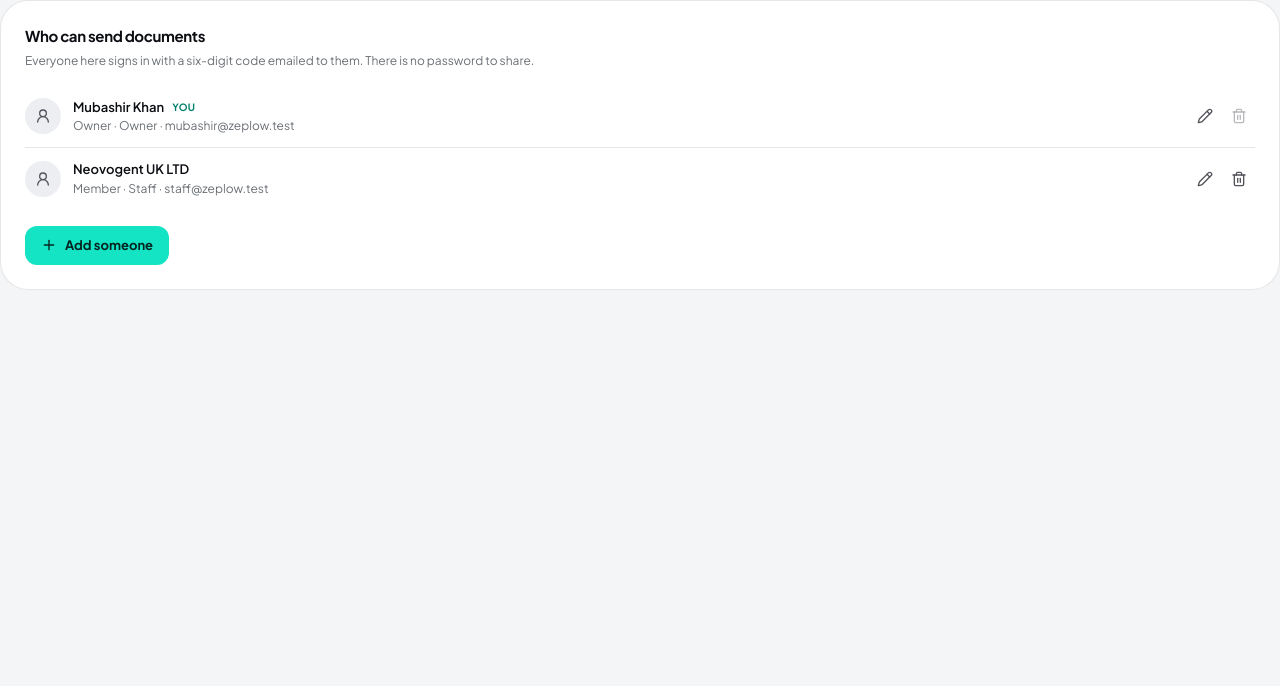
⚠ item 42 — the pencil opens the editor PRE-FILLED with that person
expect the text "Neovogent UK LTD" is shown: met, box [73,160,189,180]
Click the button named "change what they can do" in the row of "Neovogent UK LTD" at (1205, 179), box [1189,163,1221,195]
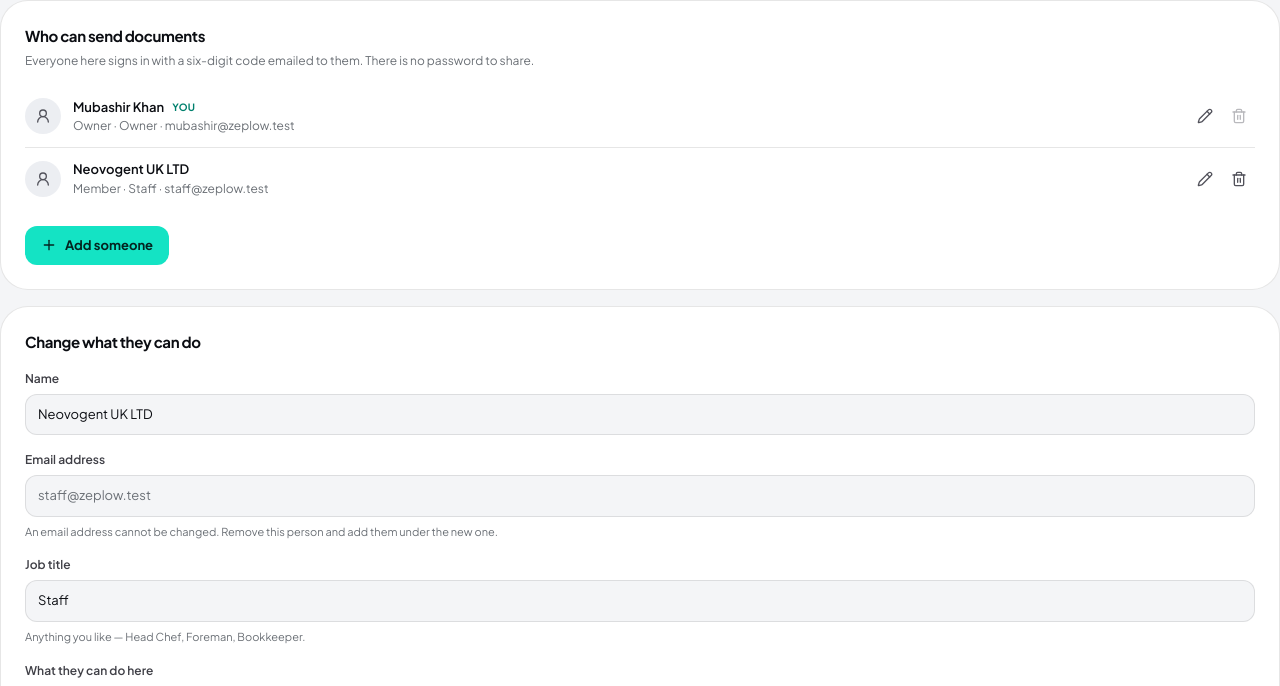
expect the field labelled "Name" holds "Neovogent UK LTD": met, box [25,394,1255,435]
expect the field labelled "Job title" holds "Staff": met, box [25,580,1255,622]
expect the field labelled "Email address" holds "staff@zeplow.test": met, box [25,475,1255,516]
